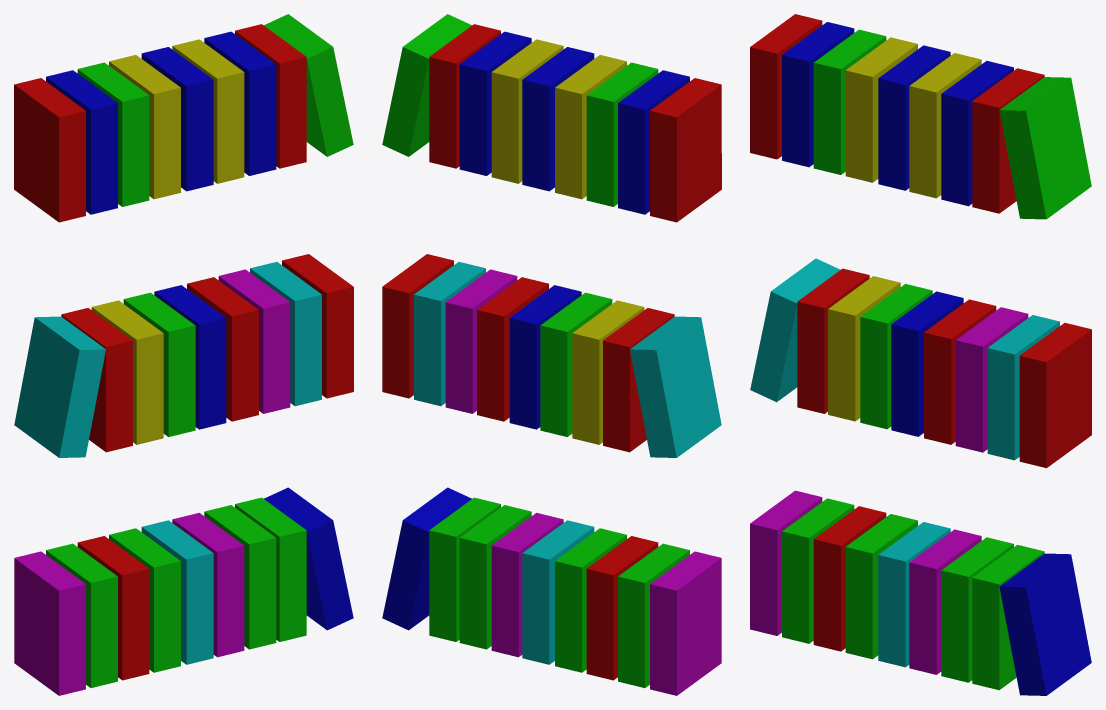
Rendered from Livre n°1.fbx.
3 renders of one model, left to right at view 1: azimuth 30°, elevation 25°; view 2: azimuth 150°, elevation 25°; view 3: azimuth 330°, elevation 25°, orthographic.
Parts seen in each view (by area): view 1: Cube.002; view 2: Cube.002; view 3: Cube.002.
Part boxes in pixels (bbox=[...]): Cube.002: bbox=[14, 14, 353, 695]; Cube.002: bbox=[382, 14, 721, 695]; Cube.002: bbox=[750, 14, 1091, 695].
Size of the model in its own units: 323 by 610 by 85.31.
